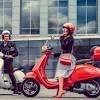helmet: (61, 22, 77, 36), (1, 28, 13, 43)
